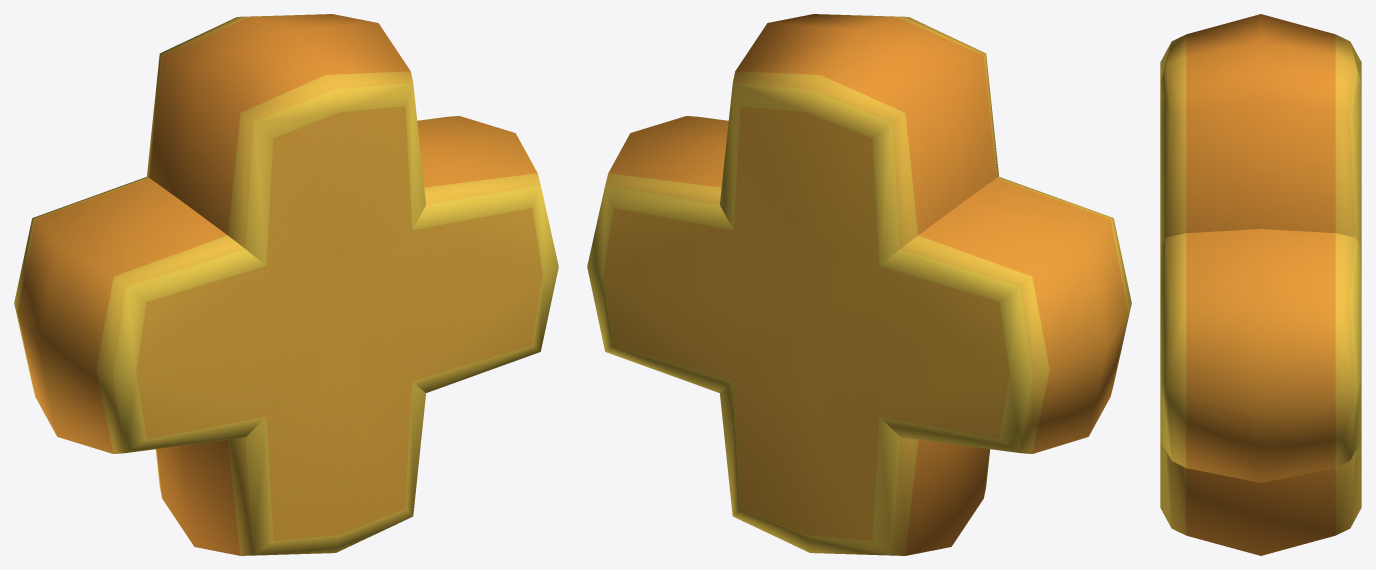
Rendered from powerup_health_1_LOD1_cube_mat_0.glb.
3 renders of one model, left to right at view 1: azimuth 30°, elevation 25°; view 2: azimuth 150°, elevation 25°; view 3: azimuth 270°, elevation 25°, orthographic. The views are drawn at different scales.
Parts seen in each view (by area): view 1: powerup_health_1_LOD1_cube_mat_0; view 2: powerup_health_1_LOD1_cube_mat_0; view 3: powerup_health_1_LOD1_cube_mat_0.
Boxes of the visible parts, bbox=[...] form: powerup_health_1_LOD1_cube_mat_0: bbox=[14, 14, 558, 555]; powerup_health_1_LOD1_cube_mat_0: bbox=[587, 14, 1131, 555]; powerup_health_1_LOD1_cube_mat_0: bbox=[1160, 14, 1361, 555].
Bounding box in the file's own units: 1.61 × 1.58 × 0.5943.
1 material, 1 textured.
